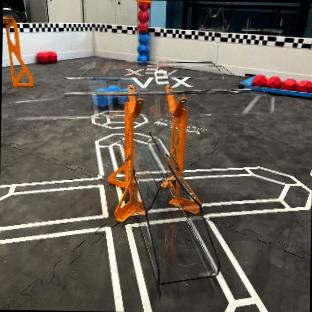Goal: (2, 14, 32, 86)
Low_goal: (127, 133, 219, 283)
Med_goal: (63, 59, 248, 275)
V5_BLUE: (95, 93, 127, 107), (136, 31, 148, 60)
V5_RED: (36, 51, 56, 62)
